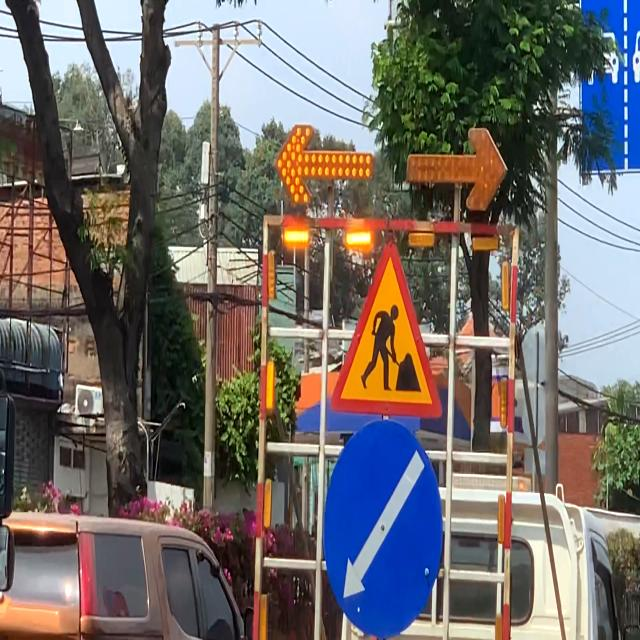R.302b: (322, 417, 444, 640)
W.227: (328, 235, 445, 421)
